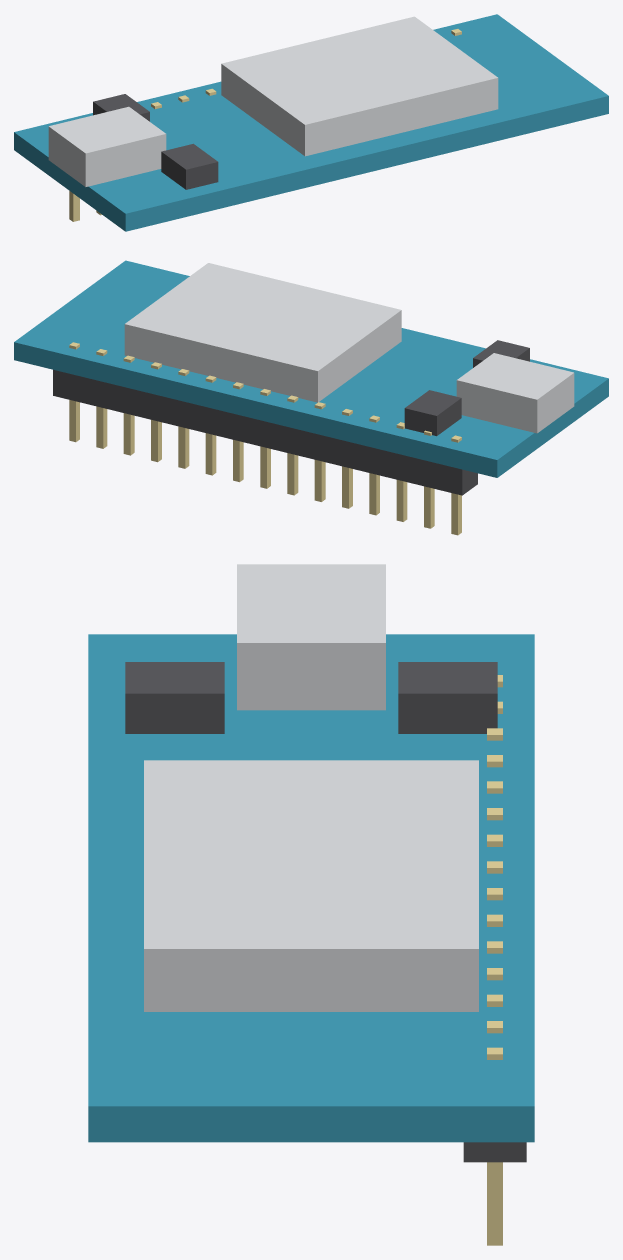
File: arduino-nano-esp32.glb
3 renders of one model, top to bottom at view 1: azimuth 30°, elevation 25°; view 2: azimuth 150°, elevation 25°; view 3: azimuth 270°, elevation 25°, orthographic. The views are drawn at different scales.
Visible parts, largest first — view 1: arduino-nano-esp32-pcb, arduino-nano-esp32-metal, arduino-nano-esp32-plastic, arduino-nano-esp32-pins; view 2: arduino-nano-esp32-pcb, arduino-nano-esp32-metal, arduino-nano-esp32-plastic, arduino-nano-esp32-pins; view 3: arduino-nano-esp32-pcb, arduino-nano-esp32-metal, arduino-nano-esp32-plastic, arduino-nano-esp32-pins.
Boxes of the visible parts, bbox=[...] form: arduino-nano-esp32-pcb: bbox=[14, 14, 608, 231]; arduino-nano-esp32-metal: bbox=[48, 16, 498, 186]; arduino-nano-esp32-plastic: bbox=[93, 94, 218, 189]; arduino-nano-esp32-pins: bbox=[69, 29, 461, 221]; arduino-nano-esp32-pcb: bbox=[14, 260, 608, 477]; arduino-nano-esp32-metal: bbox=[124, 263, 574, 433]; arduino-nano-esp32-plastic: bbox=[53, 340, 529, 495]; arduino-nano-esp32-pins: bbox=[69, 342, 461, 535]; arduino-nano-esp32-pcb: bbox=[88, 634, 534, 1142]; arduino-nano-esp32-metal: bbox=[144, 564, 478, 1011]; arduino-nano-esp32-plastic: bbox=[125, 662, 526, 1162]; arduino-nano-esp32-pins: bbox=[487, 675, 502, 1245].
Bounding box in the file's own units: 0.0453 × 0.0112 × 0.018.
